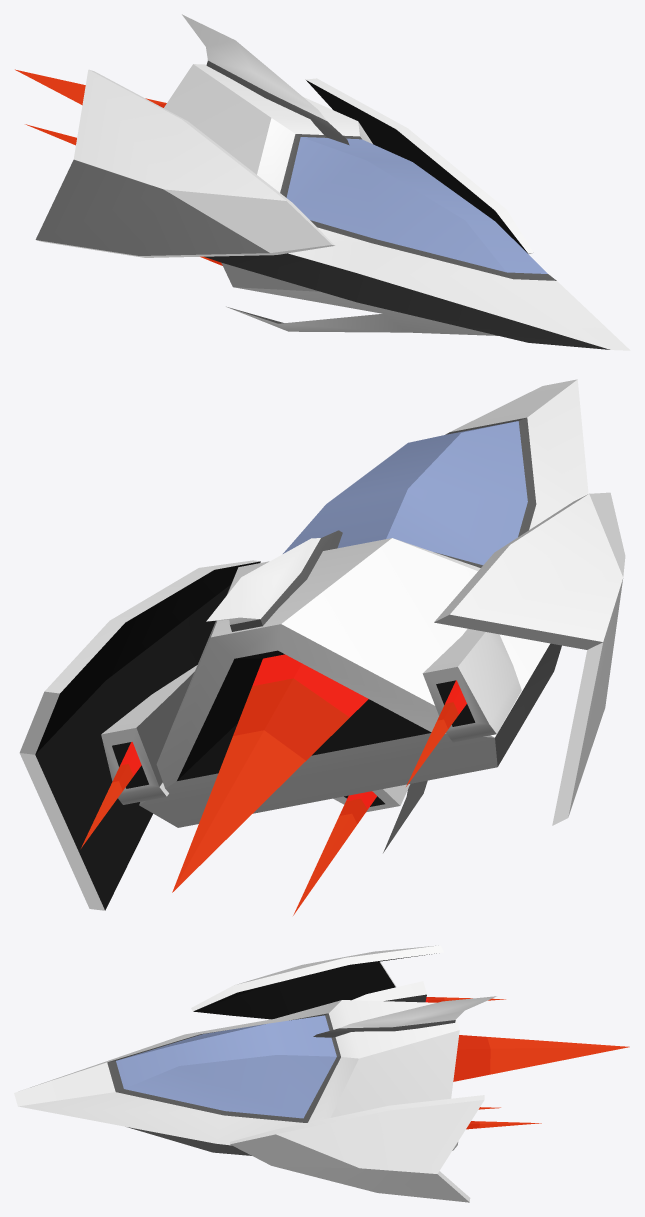
File: theship.glb
3 renders of one model, top to bottom at view 1: azimuth 30°, elevation 25°; view 2: azimuth 150°, elevation 25°; view 3: azimuth 270°, elevation 25°, orthographic. The views are drawn at different scales.
Visible parts, largest first — view 1: Cube; view 2: Cube; view 3: Cube.
Part boxes in pixels (x1,y1,x2,y2): Cube: [15, 14, 630, 350]; Cube: [19, 379, 625, 915]; Cube: [14, 945, 629, 1202].
Bounding box in the file's own units: 880 × 554 × 1752.
